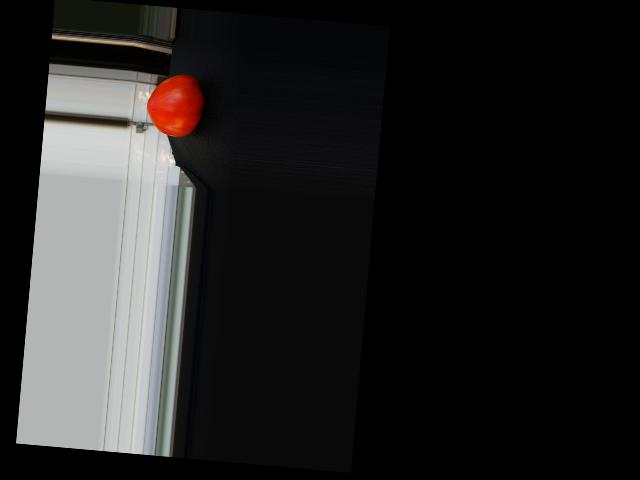tomato: (144, 71, 206, 139)
